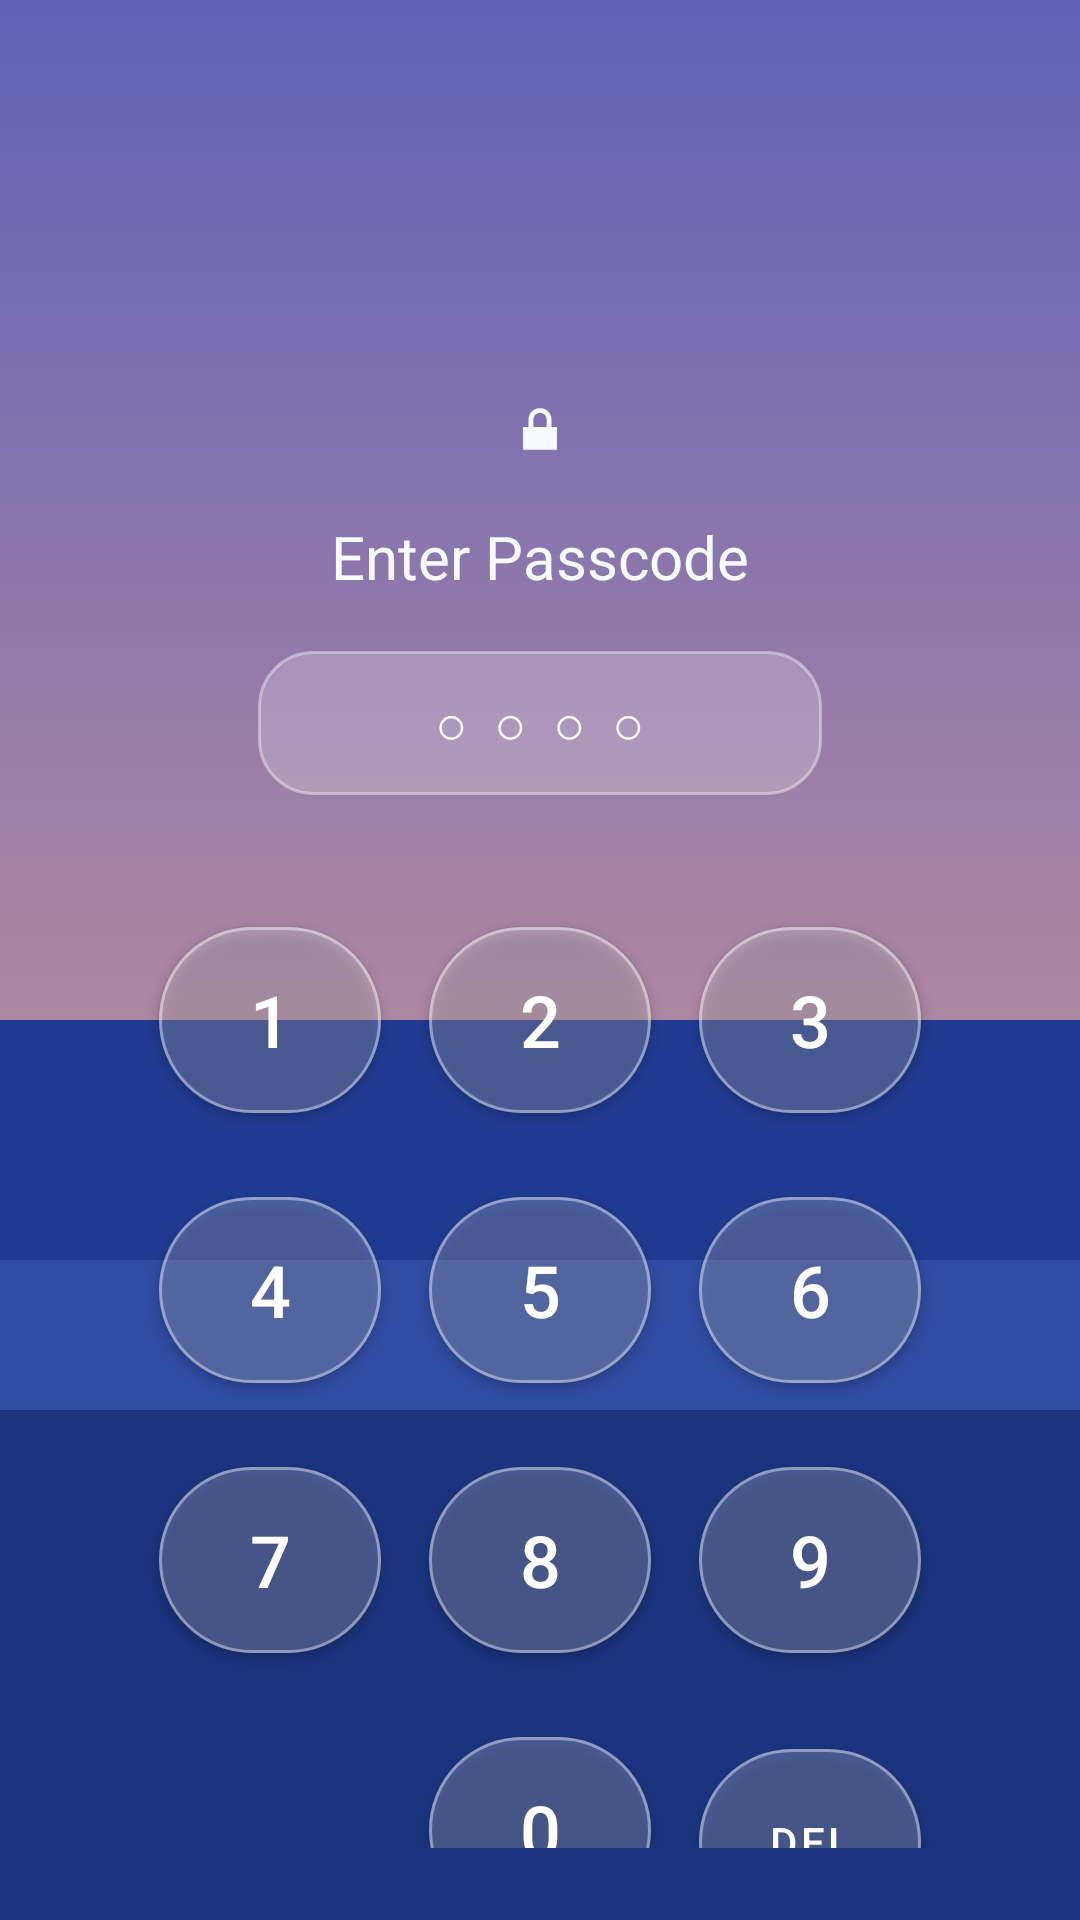

Where to tap for icons on this 1080*1920 app screen, as [x,y]:
Lock icon: [540,429]
